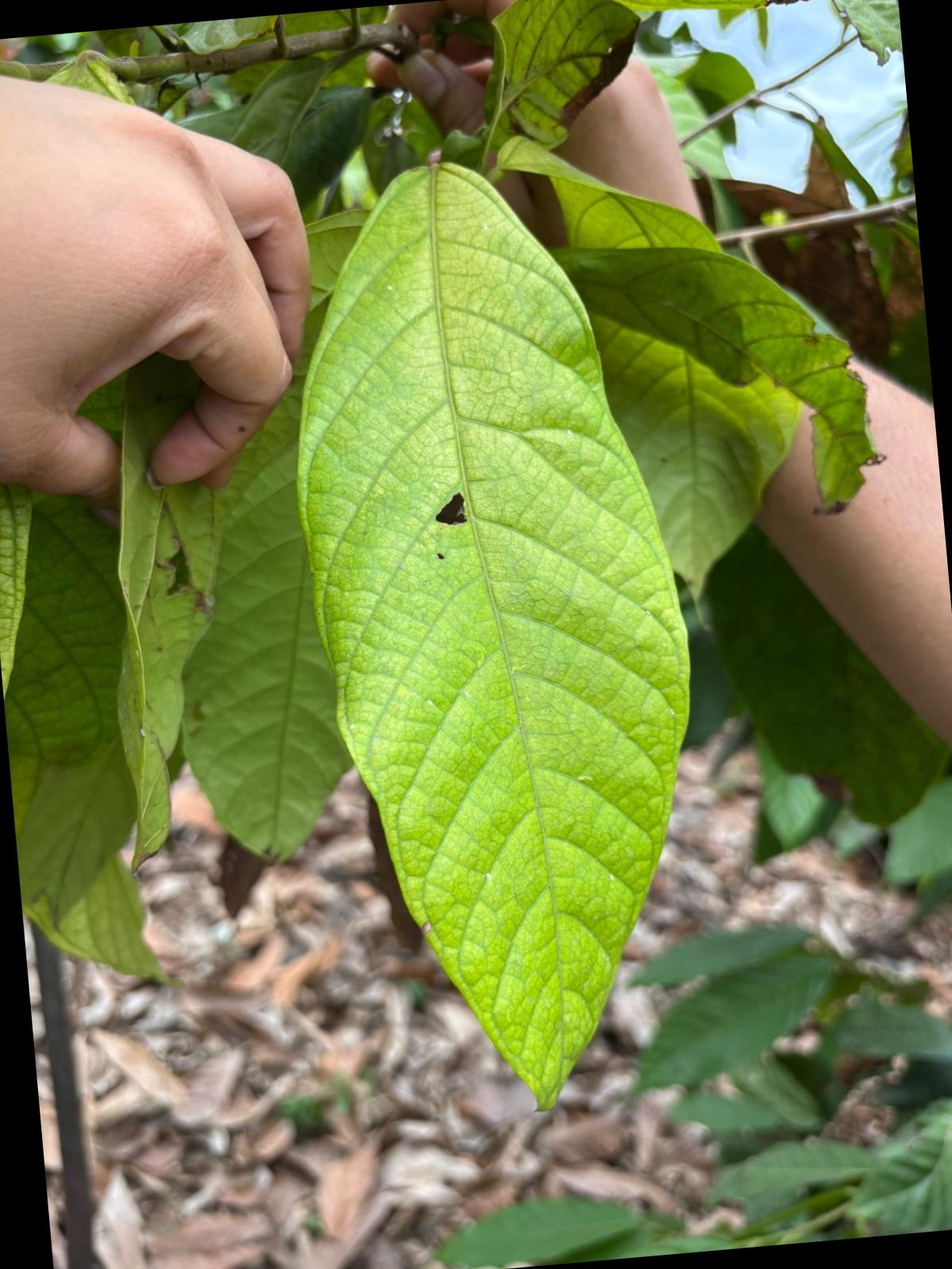Nitrogeno: (298, 165, 688, 1107)
